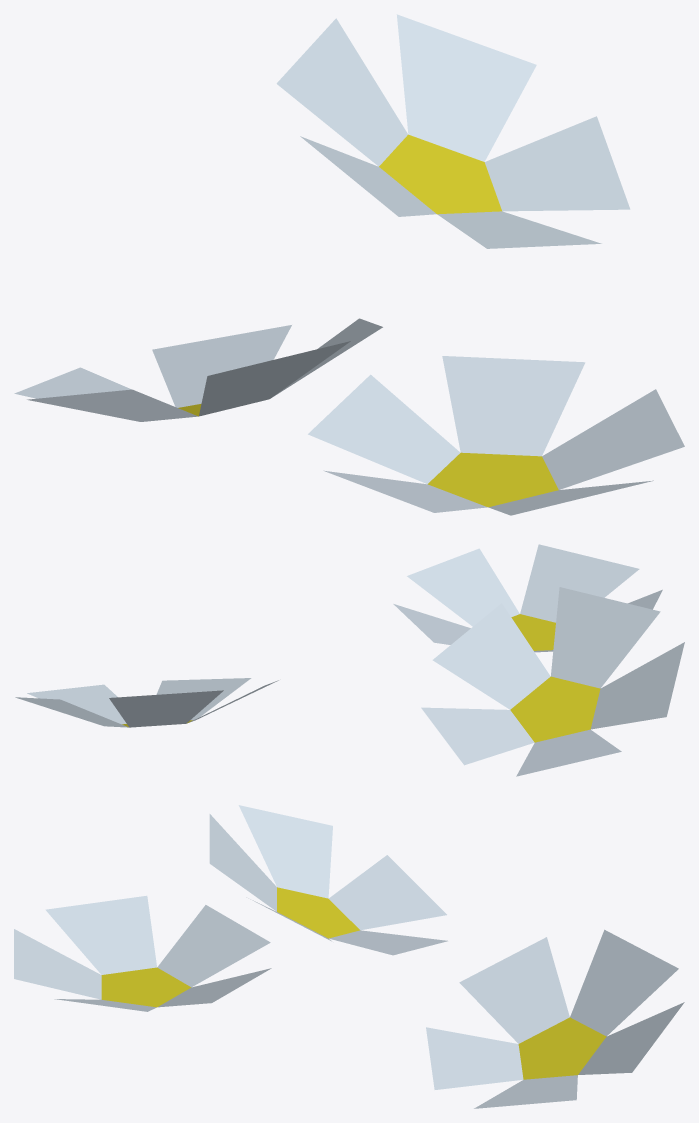
Rendered from Flower_2.fbx.
3 views of the same model, one above another, from view 1: azimuth 30°, elevation 25°; view 2: azimuth 150°, elevation 25°; view 3: azimuth 270°, elevation 25° (orthographic). The views are drawn at different scales.
Visible parts, largest first — view 1: Flower_2; view 2: Flower_2; view 3: Flower_2.
Part boxes in pixels (x1,y1,x2,y2): Flower_2: [14, 14, 684, 515]; Flower_2: [15, 544, 684, 776]; Flower_2: [14, 805, 684, 1108].
Bounding box in the file's own units: 67.69 × 11.64 × 74.26.
